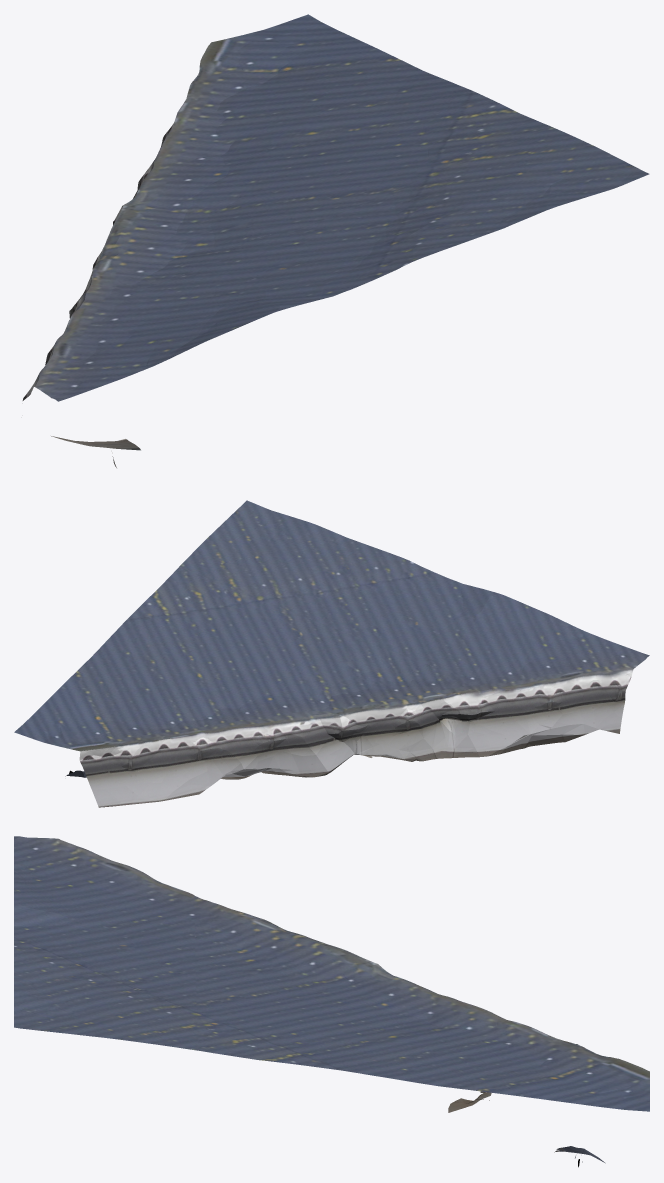
3 renders of one model, top to bottom at view 1: azimuth 30°, elevation 25°; view 2: azimuth 150°, elevation 25°; view 3: azimuth 270°, elevation 25°, orthographic. The views are drawn at different scales.
Size of the model in its own units: 4.18 by 1.15 by 4.18.
Materials: 2 (2 with a texture image).
